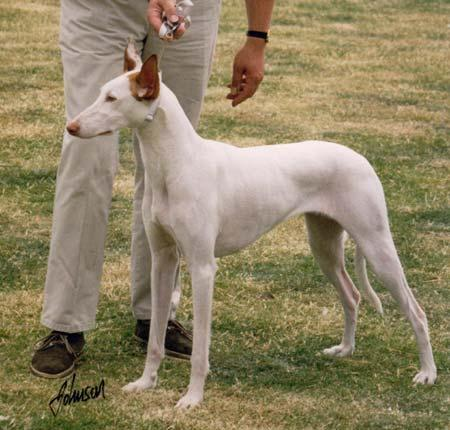Ibizan_hound: (65, 35, 434, 410)
